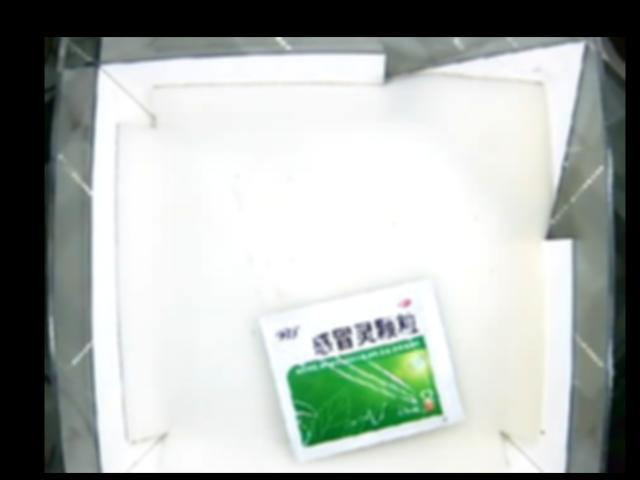Medicine: (254, 275, 465, 461)
